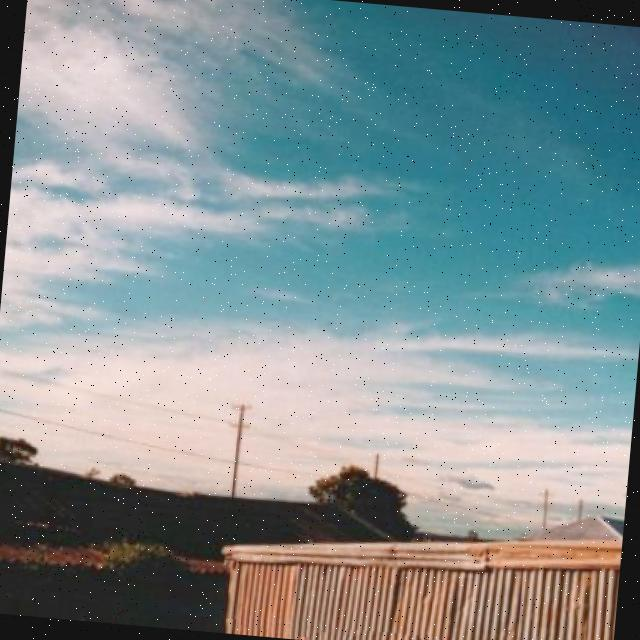Cs: (1, 1, 640, 393)
